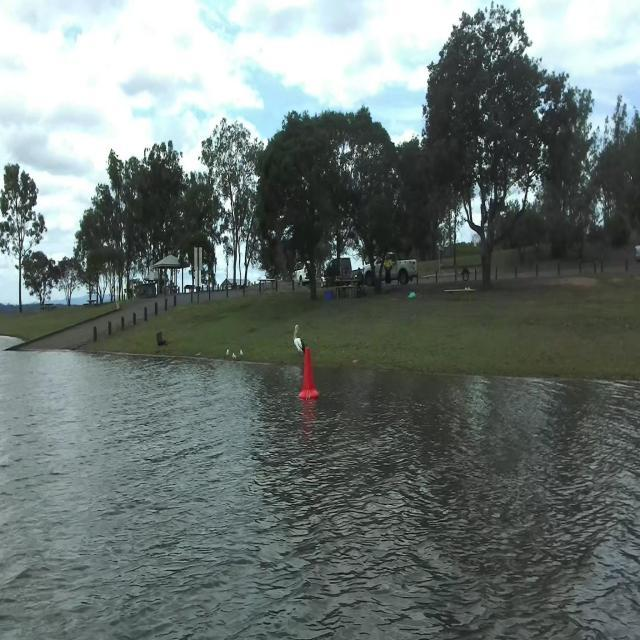Red_Buoy: (296, 353, 318, 403)
